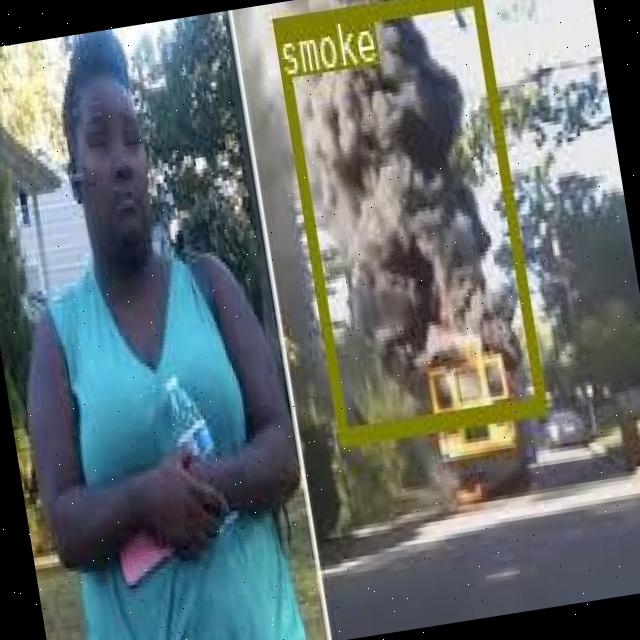smoke: (270, 0, 544, 443)
